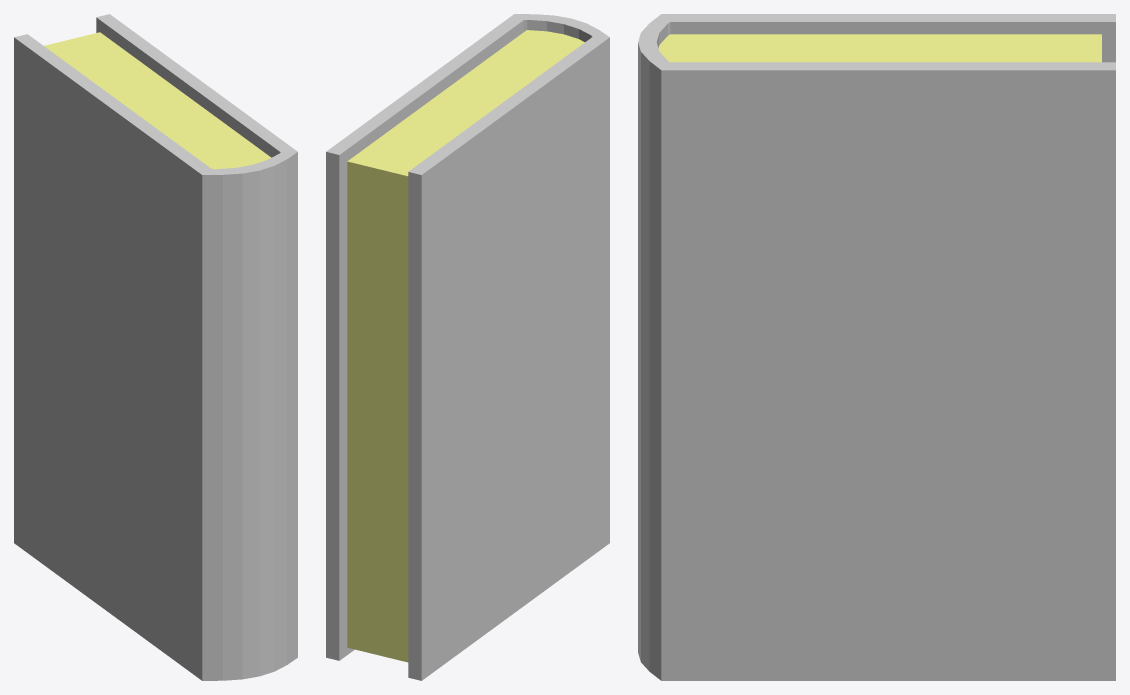
File: bookclosed.fbx
3 renders of one model, left to right at view 1: azimuth 30°, elevation 25°; view 2: azimuth 150°, elevation 25°; view 3: azimuth 270°, elevation 25°, orthographic. The views are drawn at different scales.
Visible parts, largest first — view 1: Box048, Group035; view 2: Box048, Group035; view 3: Box048, Group035.
Boxes of the visible parts, box(x1,y1,x2,y2) form: Box048: box(14, 14, 297, 680); Group035: box(44, 32, 271, 169); Box048: box(326, 14, 609, 680); Group035: box(347, 30, 584, 662); Box048: box(638, 14, 1115, 680); Group035: box(658, 34, 1101, 62).
Size of the model in its own units: 0.7256 by 2.6 by 3.67.
